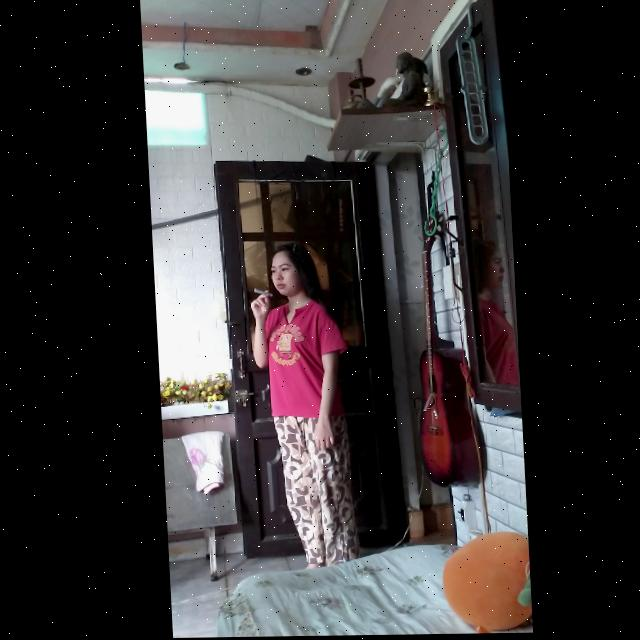cigarette: (250, 289, 270, 297)
